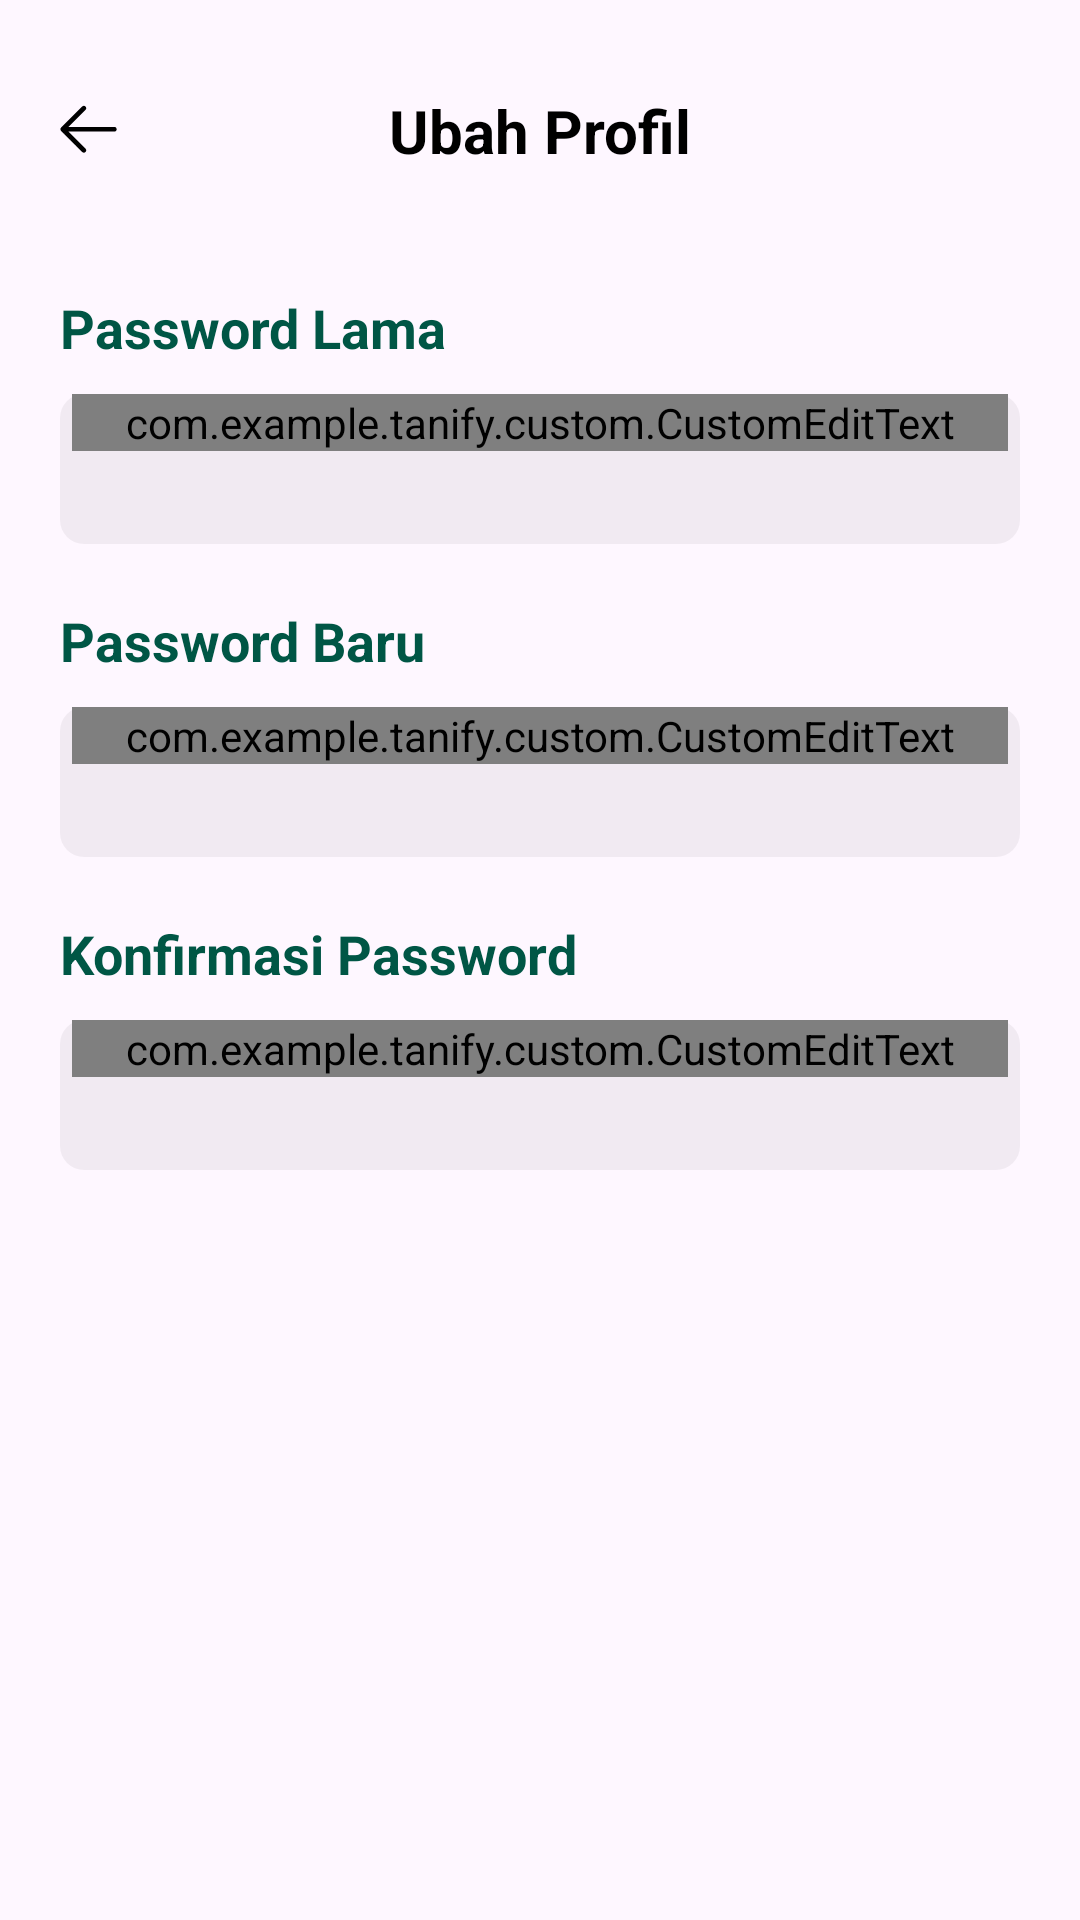

Icon click points for this 1080×1920 phone screenshot, format (x=x, y=y):
left arrow: (x=88, y=129)
